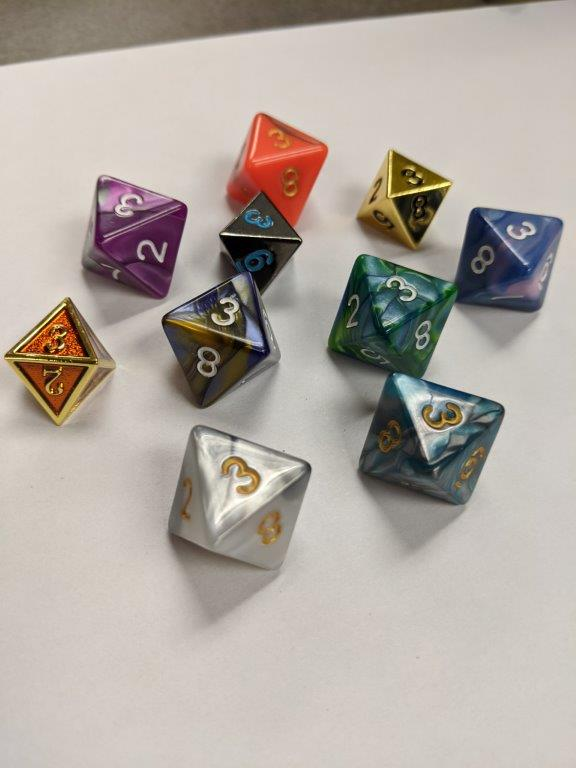d8-3: (164, 419, 315, 570), (351, 367, 504, 504), (165, 270, 285, 407), (326, 254, 457, 377), (79, 171, 188, 299), (5, 299, 115, 425), (223, 110, 329, 231), (456, 206, 562, 314), (356, 147, 452, 245), (222, 189, 306, 300)
